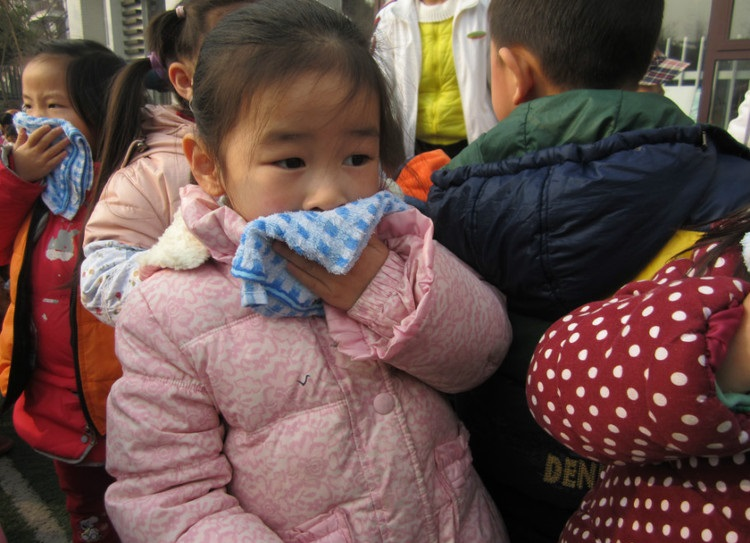face_mask: (220, 76, 395, 273), (15, 63, 86, 153)
